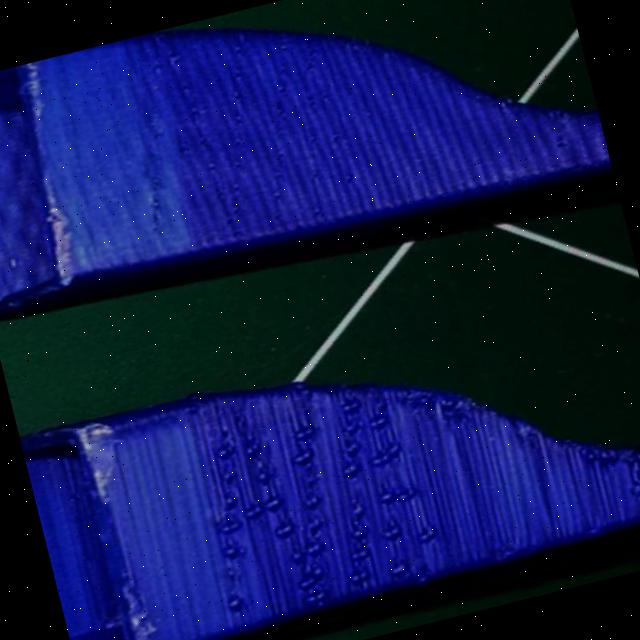blobs: (216, 538, 255, 564), (214, 516, 252, 541), (287, 420, 322, 444), (271, 514, 306, 538), (285, 441, 318, 466), (342, 564, 378, 586), (290, 572, 324, 594), (341, 434, 371, 458), (256, 495, 287, 518), (302, 488, 332, 511), (378, 434, 406, 458), (344, 521, 376, 542), (386, 558, 412, 583), (337, 415, 366, 437), (219, 564, 250, 584), (415, 524, 442, 546), (213, 464, 240, 486), (302, 537, 330, 558), (300, 587, 328, 608), (375, 524, 403, 544), (394, 484, 418, 506), (306, 560, 332, 580), (342, 396, 366, 417), (345, 499, 369, 520), (220, 488, 243, 509), (212, 442, 234, 463), (254, 466, 278, 485), (369, 412, 394, 430), (344, 458, 366, 477), (220, 595, 244, 612), (375, 486, 397, 504), (351, 544, 374, 561), (248, 502, 270, 519), (255, 469, 278, 484)
